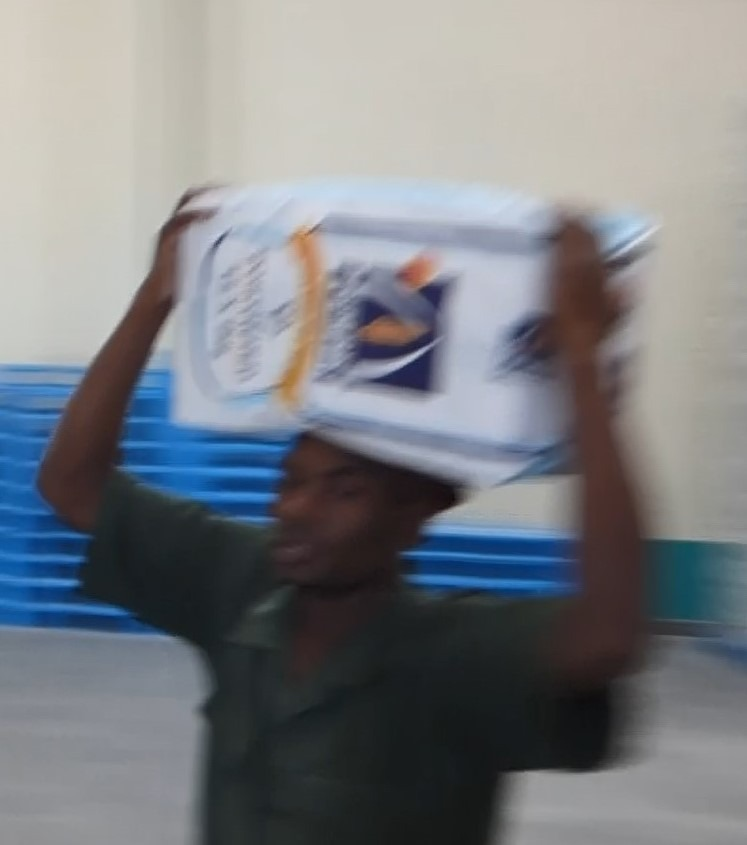wheat_flour_blue_label: (185, 177, 646, 503)
